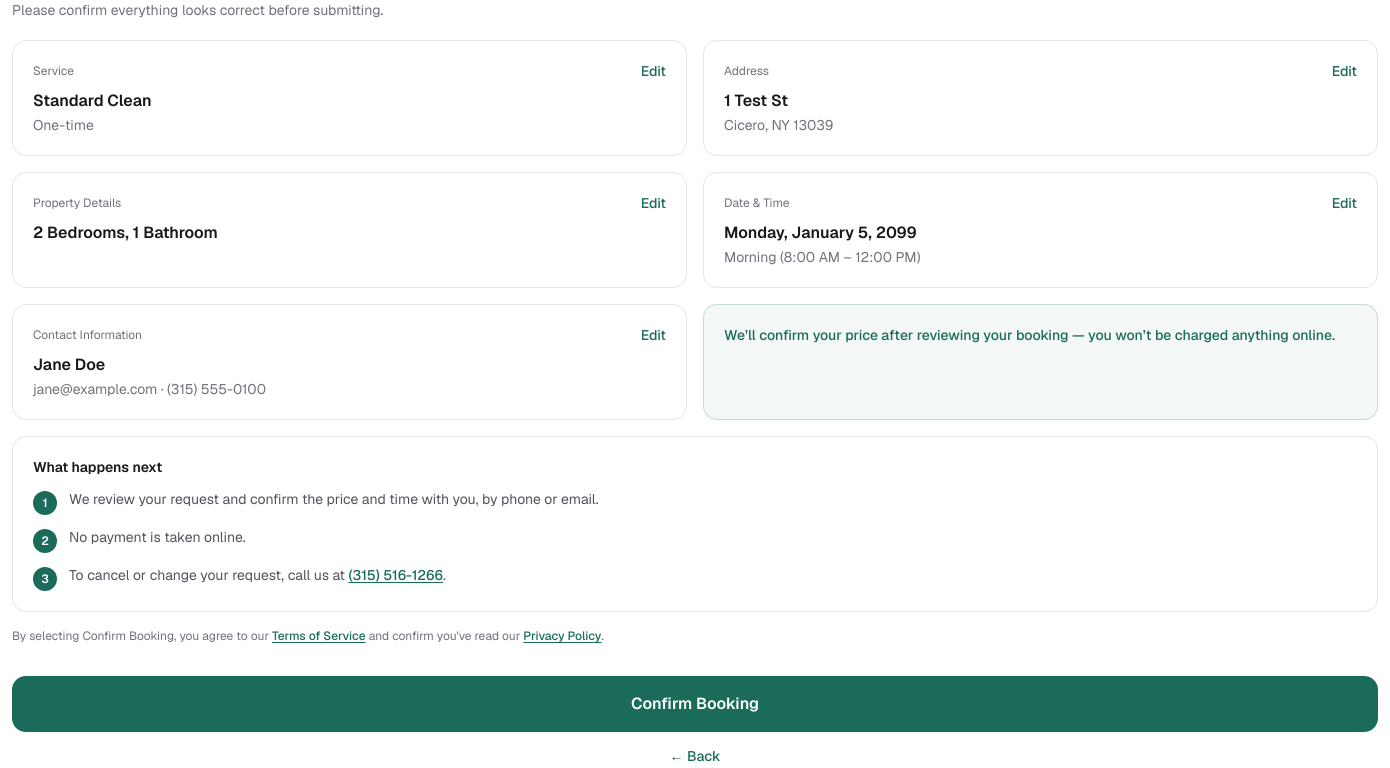
residential review: submit failures › explains a request that never reached the server, and lets the customer retry
(page scrolled)
Click the button "Confirm Booking".
click(695, 704)  # box [12,676,1378,732]
(page scrolled)
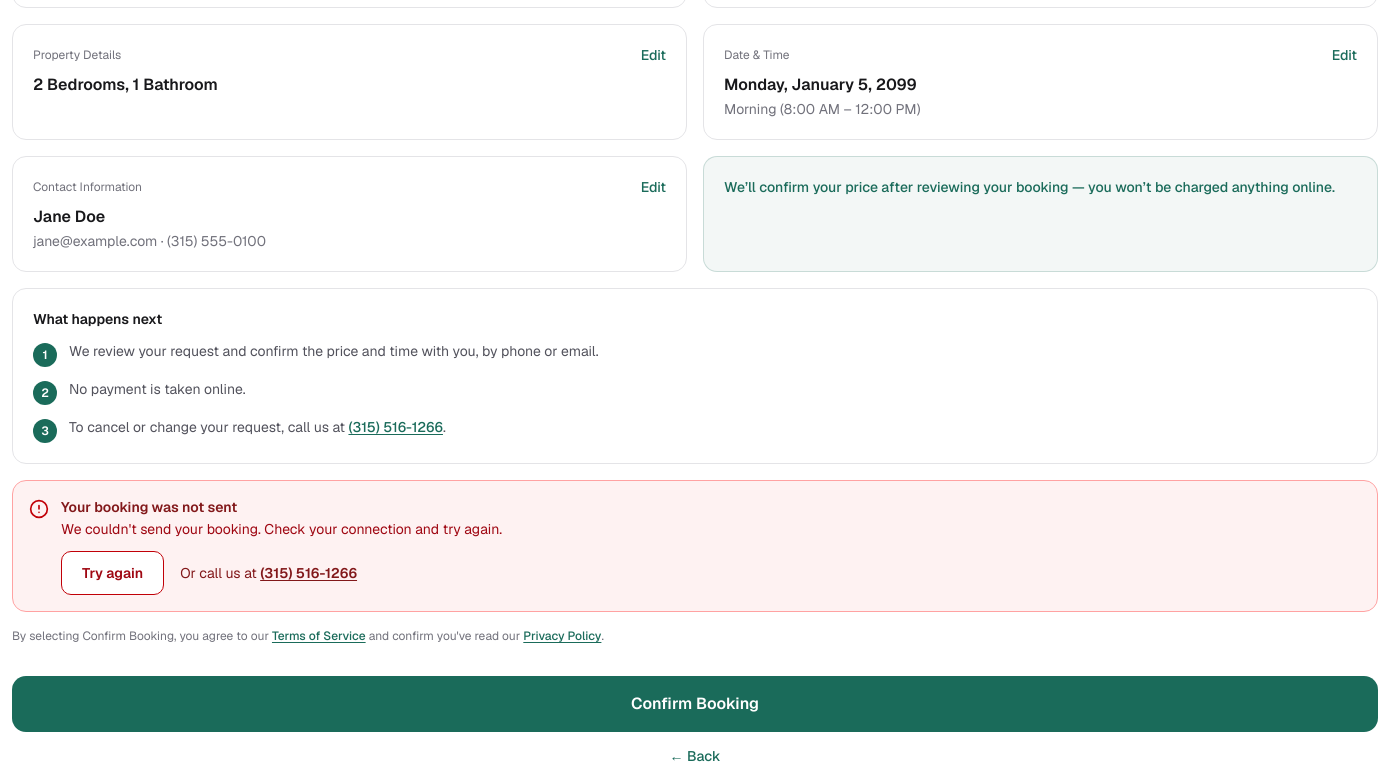
Check: the message shows "Check your connection and try again.", box [61,520,502,538]
